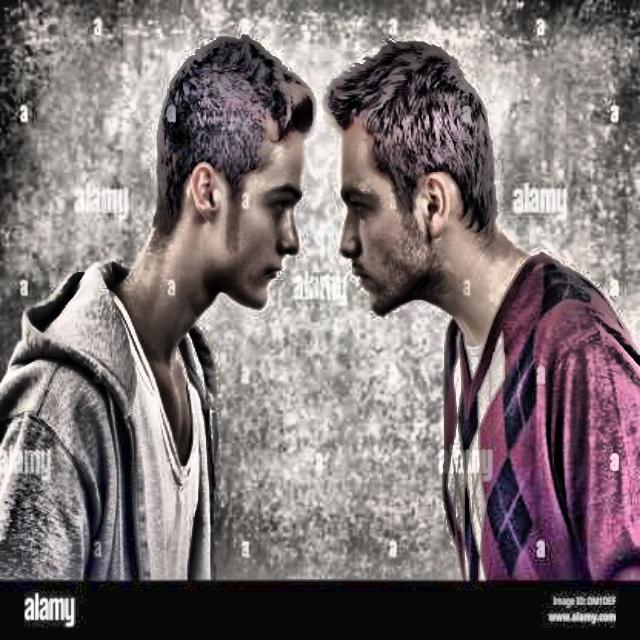angry: (133, 23, 323, 321), (330, 32, 503, 325)
